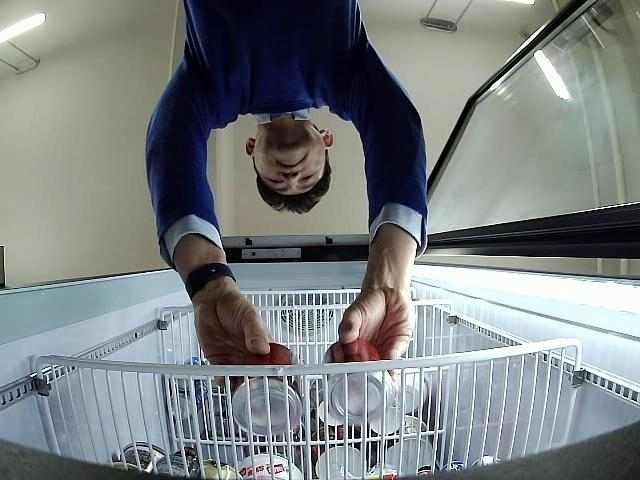11_cocaColaZero: (232, 342, 304, 436), (323, 338, 395, 426)
